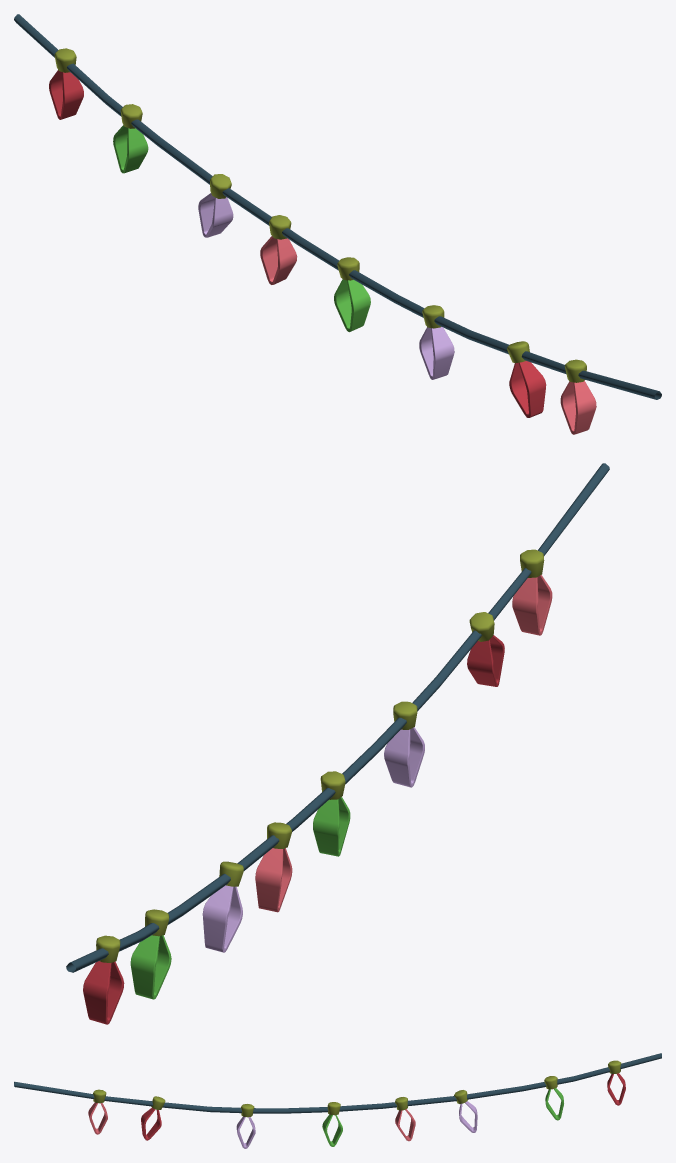
Rendered from paper-decor.fbx.
The picture shows the model from 3 angles, top to bottom: view 1: azimuth 30°, elevation 25°; view 2: azimuth 150°, elevation 25°; view 3: azimuth 270°, elevation 25°; orthographic projection. The views are drawn at different scales.
Parts seen in each view (by area): view 1: backgroundyoule4; view 2: backgroundyoule4; view 3: backgroundyoule4.
Boxes of the visible parts, <box> form: backgroundyoule4: <box>14,14,661,434</box>; backgroundyoule4: <box>66,463,609,1024</box>; backgroundyoule4: <box>14,1053,661,1148</box>.
Bounding box in the file's own units: 1.67 × 1.95 × 15.22.
